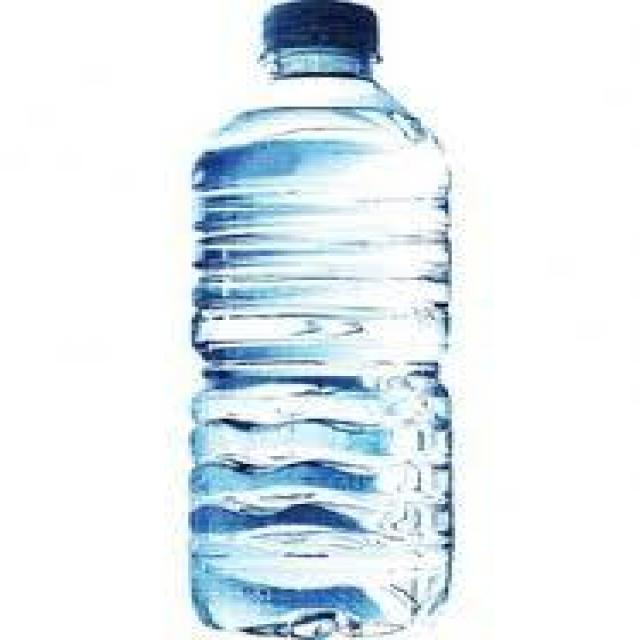bottle: (154, 0, 472, 616)
